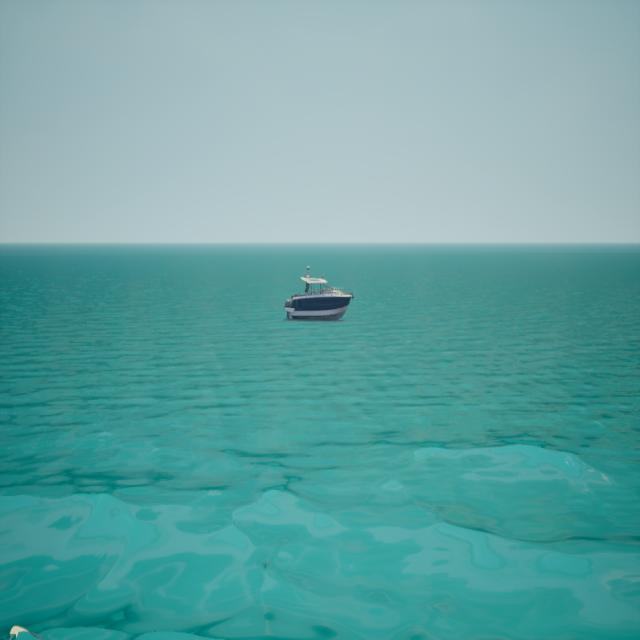ship: (286, 267, 352, 322)
